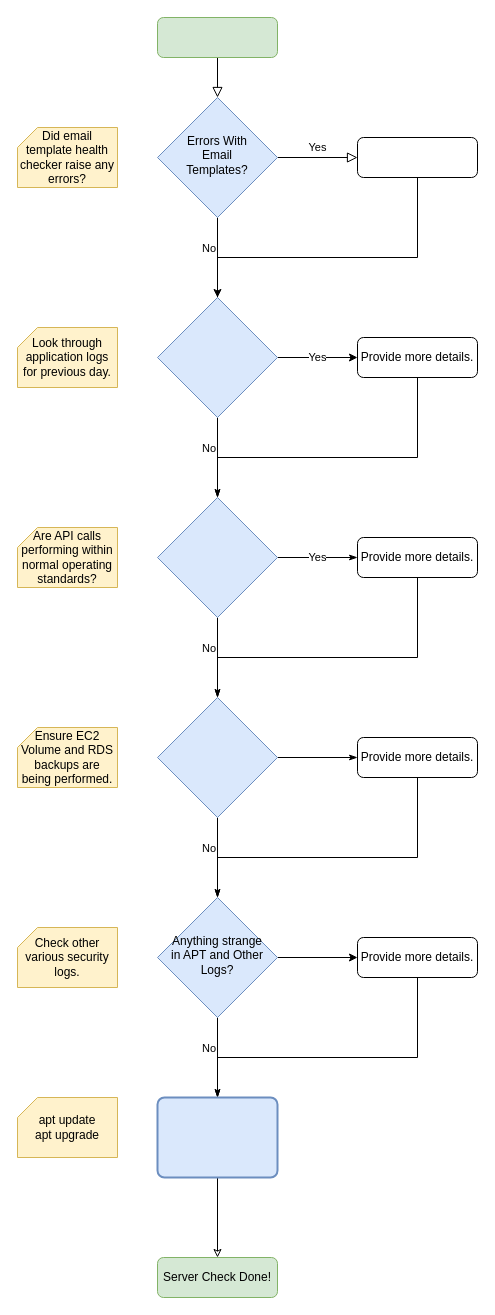
This 495x1315 diagram has some shape labels left out. The shapes that lost their labels are listed below. From the top down, each one's centre as x and y in pixels, then its label:
point 217,37: Start Server Check
point 417,157: Raise ticket to fix. Provide more details.
point 217,357: Any App Errors Needing Action?
point 217,557: Any Abnormal API Usage?
point 217,757: EC2 & RDS Backups Performed Correctly?
point 217,1137: Install Software Updates
